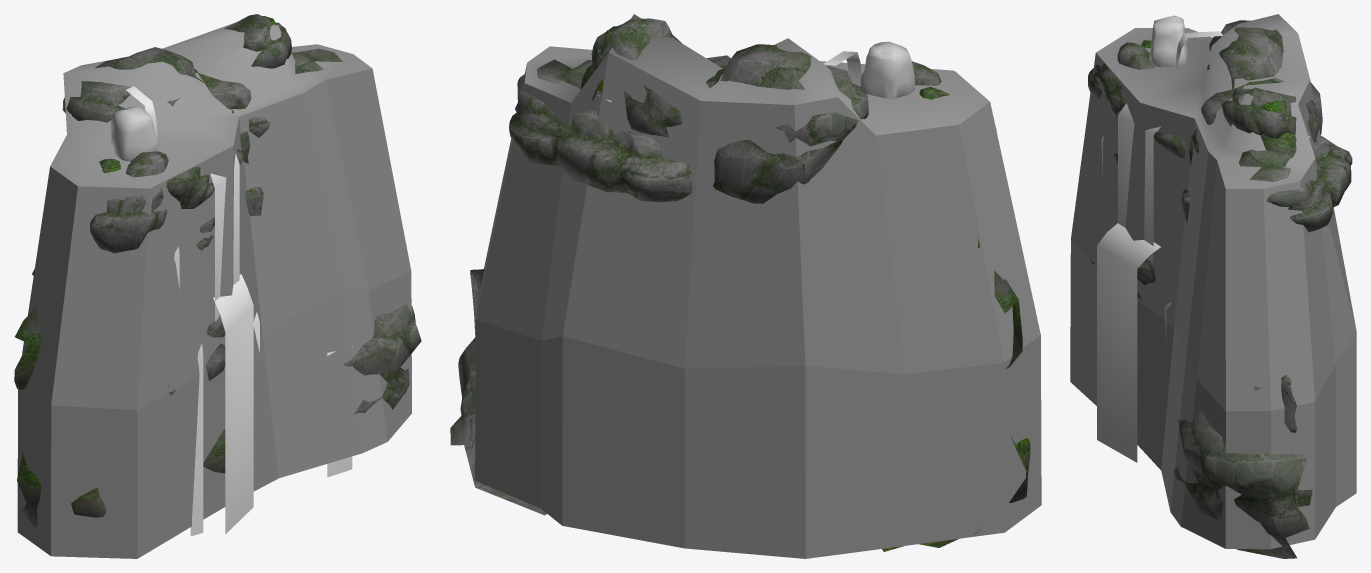
File: Scene_Rock_PuBu_1.FBX
3 renders of one model, left to right at view 1: azimuth 30°, elevation 25°; view 2: azimuth 150°, elevation 25°; view 3: azimuth 270°, elevation 25°, orthographic. The views are drawn at different scales.
Parts seen in each view (by area): view 1: Scene_Rock_PuBu_1_Xzm, Scene_Rock_PuBu_1, Scene_Rock_PuBu_4, Scene_Rock_PuBu_3, Scene_Rock_ShanShi_36, Scene_Rock_PuBu_2; view 2: Scene_Rock_PuBu_1_Xzm, Scene_Rock_PuBu_1, Scene_Rock_PuBu_3, Scene_Rock_ShanShi_36; view 3: Scene_Rock_PuBu_1_Xzm, Scene_Rock_PuBu_1, Scene_Rock_PuBu_4, Scene_Rock_ShanShi_36, Scene_Rock_PuBu_2, Scene_Rock_PuBu_3.
Boxes of the visible parts, box(x1,y1,x2,y2) form: Scene_Rock_PuBu_1_Xzm: box(17, 22, 411, 558); Scene_Rock_PuBu_1: box(62, 14, 421, 414); Scene_Rock_PuBu_4: box(126, 86, 352, 536); Scene_Rock_PuBu_3: box(14, 16, 276, 527); Scene_Rock_ShanShi_36: box(110, 106, 158, 161); Scene_Rock_PuBu_2: box(239, 131, 263, 216); Scene_Rock_PuBu_1_Xzm: box(475, 14, 1041, 558); Scene_Rock_PuBu_1: box(450, 18, 996, 515); Scene_Rock_PuBu_3: box(580, 29, 1030, 551); Scene_Rock_ShanShi_36: box(860, 41, 914, 99); Scene_Rock_PuBu_1_Xzm: box(1070, 14, 1356, 549); Scene_Rock_PuBu_1: box(1088, 20, 1352, 558); Scene_Rock_PuBu_4: box(1097, 31, 1309, 527); Scene_Rock_ShanShi_36: box(1150, 15, 1187, 67); Scene_Rock_PuBu_2: box(1182, 134, 1296, 432); Scene_Rock_PuBu_3: box(1141, 40, 1296, 157).
Bounding box in the file's own units: 2839 × 2689 × 1639.
